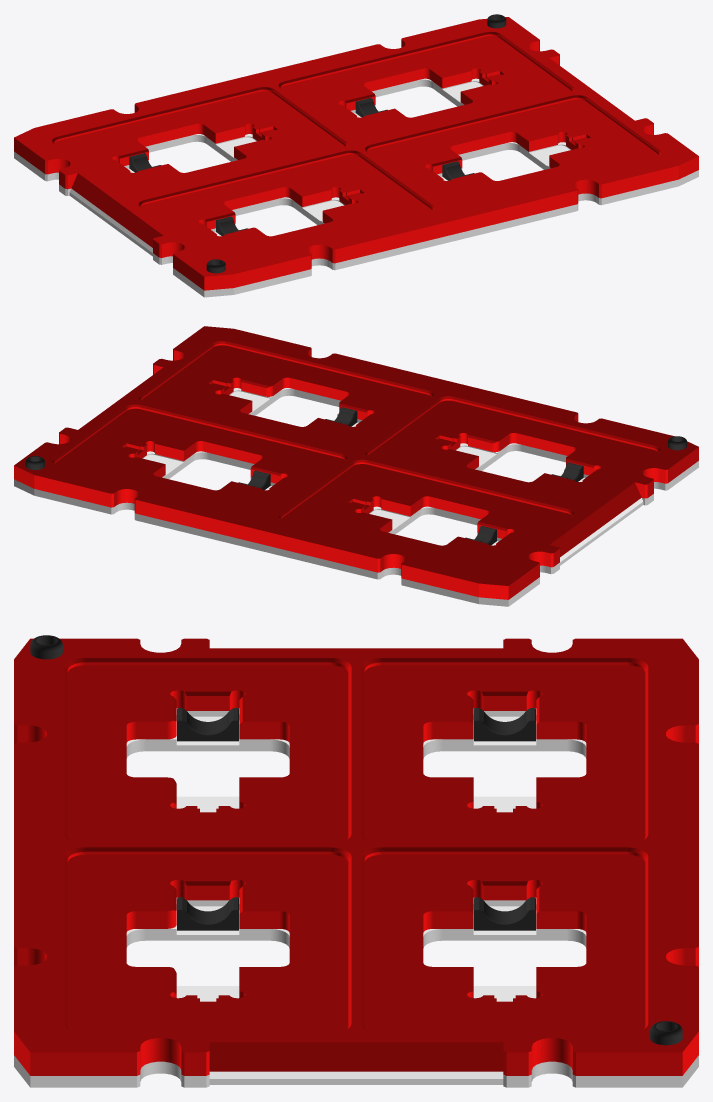
The model's file is WS Pallet Empty.fbx.
The picture shows the model from 3 angles, top to bottom: view 1: azimuth 30°, elevation 25°; view 2: azimuth 150°, elevation 25°; view 3: azimuth 270°, elevation 25°; orthographic projection. The views are drawn at different scales.
Parts seen in each view (by area): view 1: Wine_stopper_pallet.001; view 2: Wine_stopper_pallet.001; view 3: Wine_stopper_pallet.001.
Part boxes in pixels (bbox=[...]): Wine_stopper_pallet.001: bbox=[14, 14, 698, 297]; Wine_stopper_pallet.001: bbox=[14, 326, 698, 606]; Wine_stopper_pallet.001: bbox=[14, 635, 698, 1087].
Bounding box in the file's own units: 0.3337 × 0.0178 × 0.2335.
